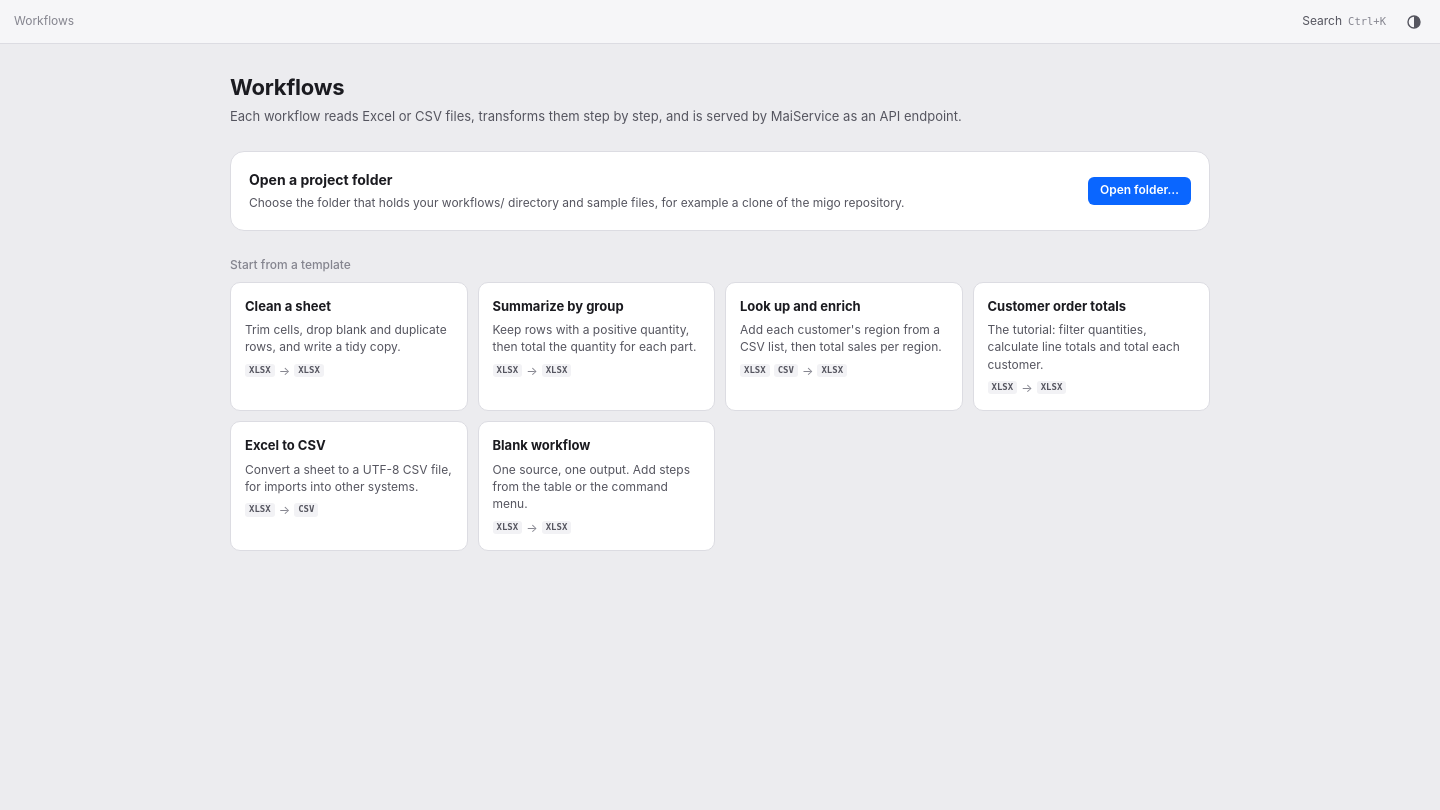
Test: leaves the new document's selected step in view when an earlier run finishes
The image size is (1440, 810).
Click the button "Open folder…" at (1139, 191), box [1088,177,1191,205]
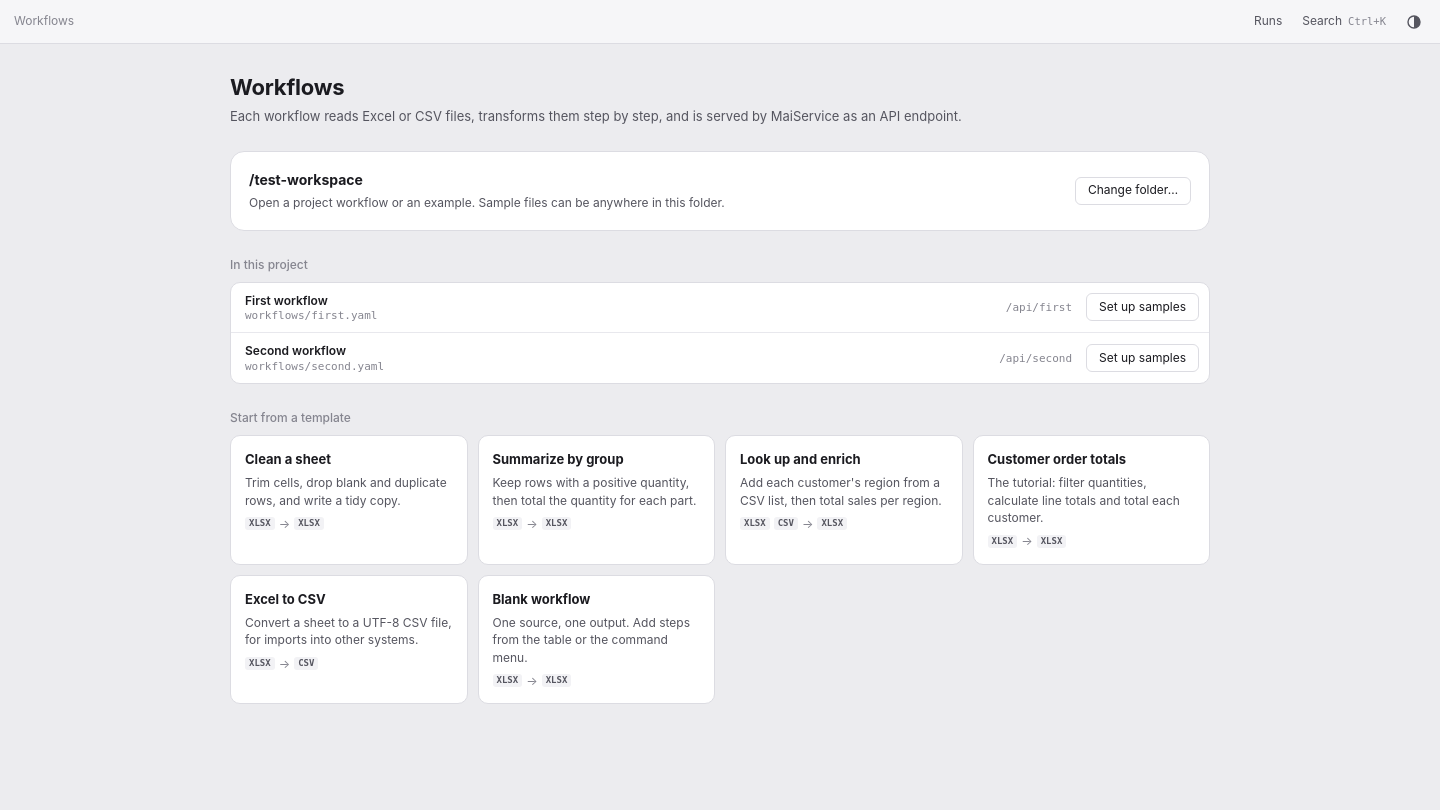
Click the button "First workflow workflows/first.yaml /api/first" at (286, 300), box [231,283,1086,332]
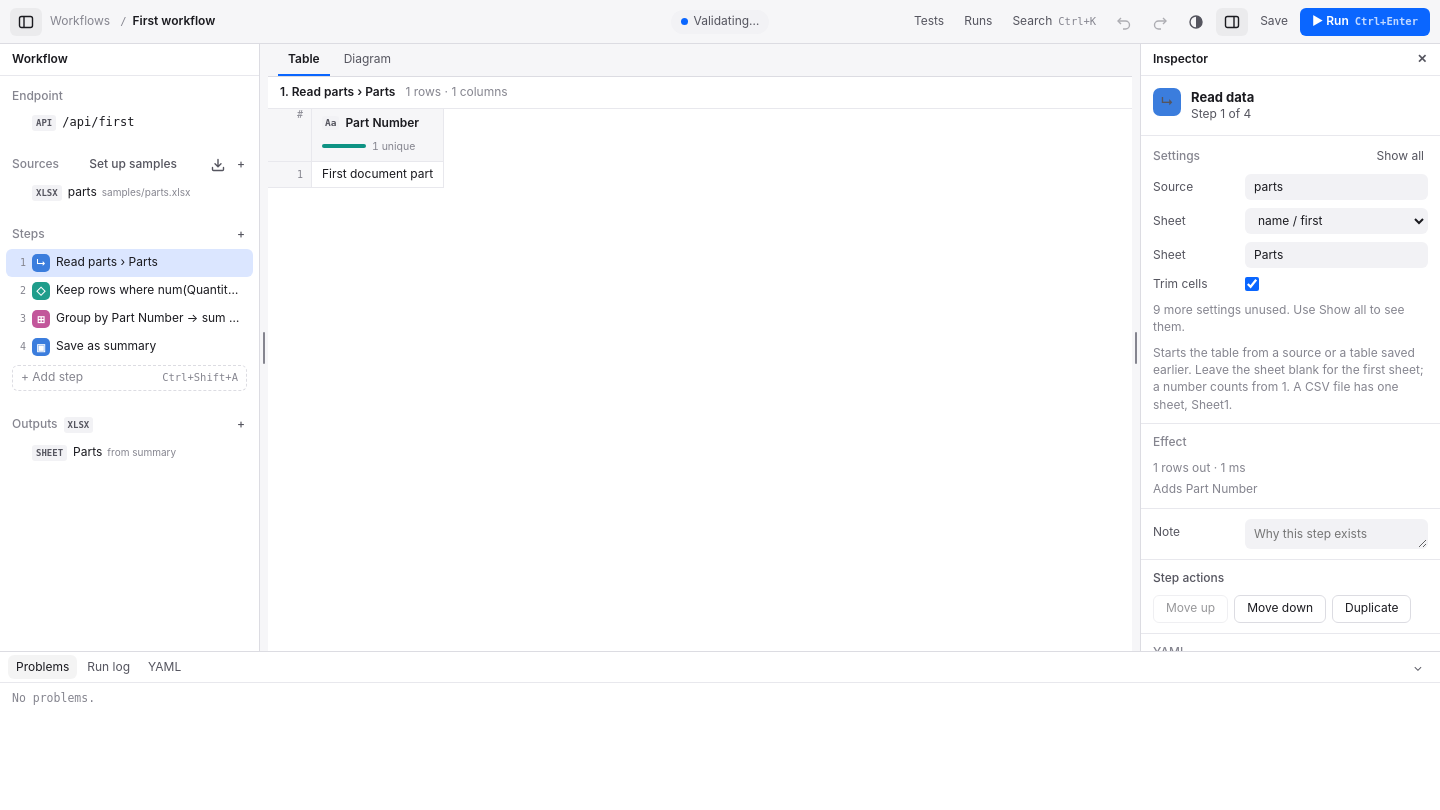
Click the button "▶ Run Ctrl+Enter" at (1365, 22), box [1300,8,1430,36]
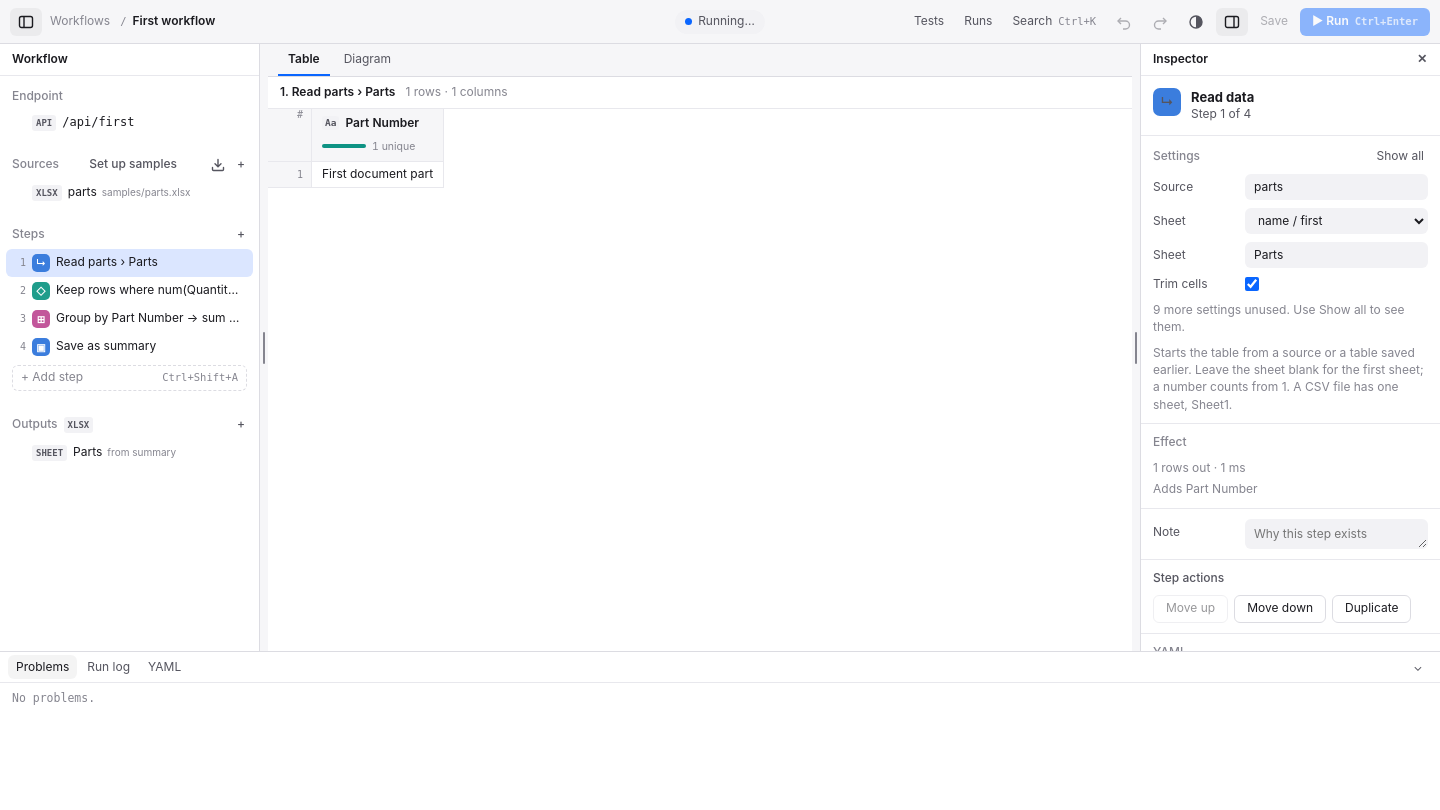
Click the button "Workflows" at (80, 22), box [46,11,114,32]
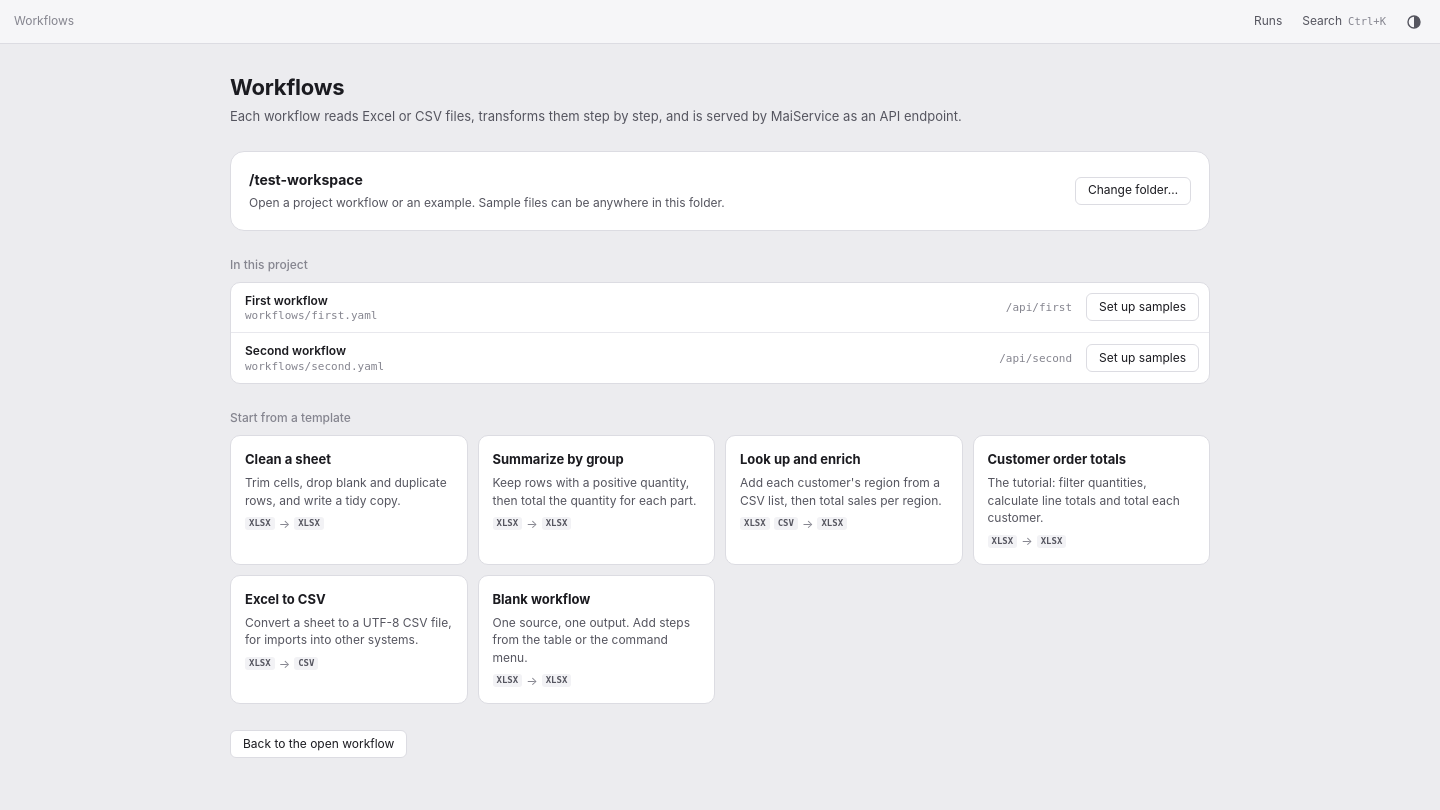
Click the button "Second workflow workflows/second.yaml /api/second" at (296, 351), box [231,333,1086,383]
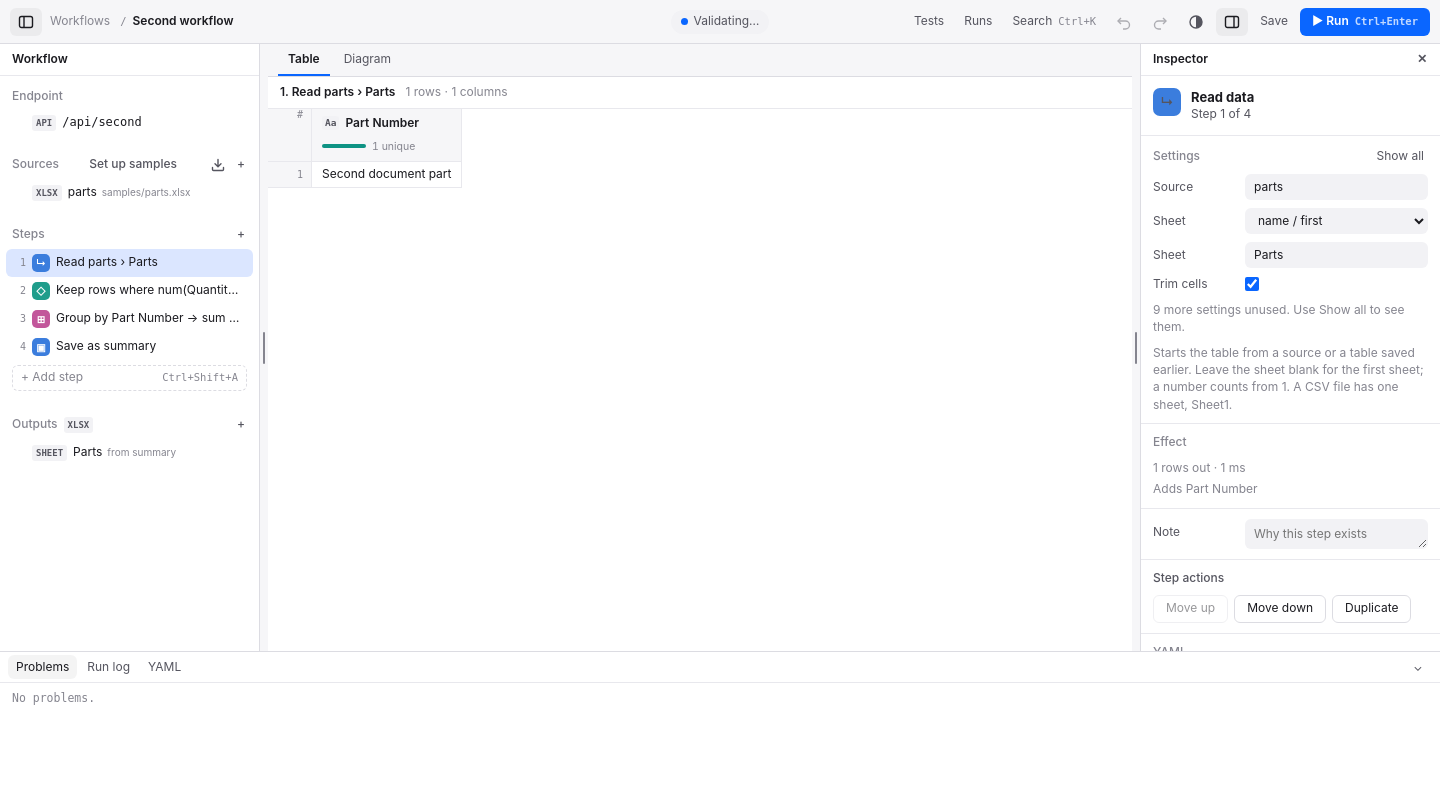
Expected: the text "Second workflow" is shown, [132,13,234,30]
Expected: the text "Second document part" is shown, [312,162,462,188]
